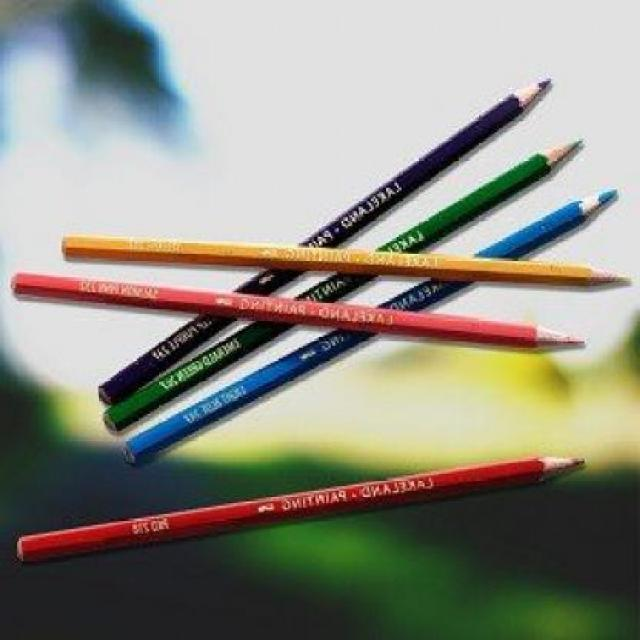Pencil: (563, 170, 623, 242), (527, 124, 593, 182), (526, 439, 596, 493), (499, 62, 561, 122), (510, 318, 596, 360), (563, 258, 640, 300)
